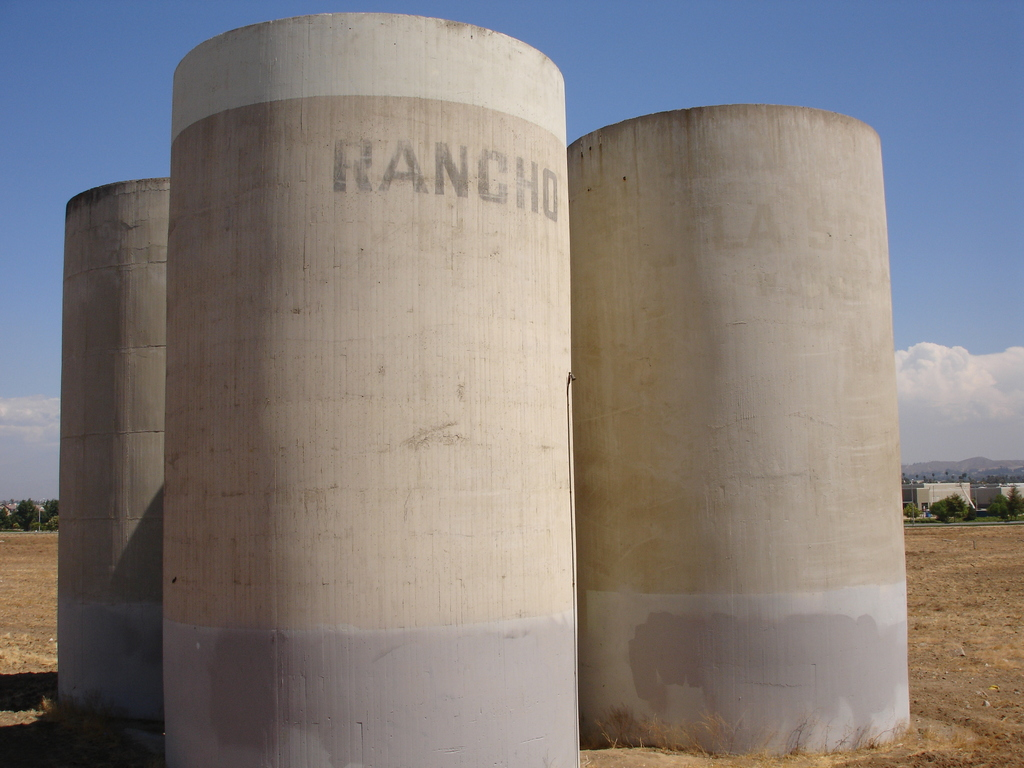Tree: (6, 492, 56, 527), (1002, 482, 1023, 521)
